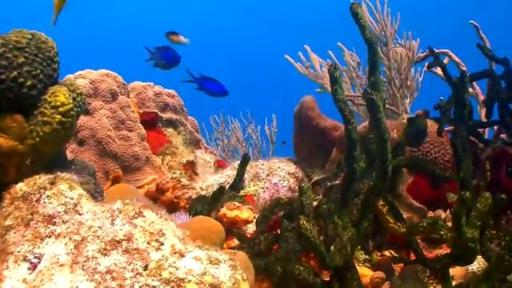Fish: (182, 70, 228, 97), (146, 46, 181, 70), (52, 0, 66, 26), (165, 32, 189, 44), (170, 211, 191, 223), (315, 88, 325, 92), (505, 68, 511, 72)
